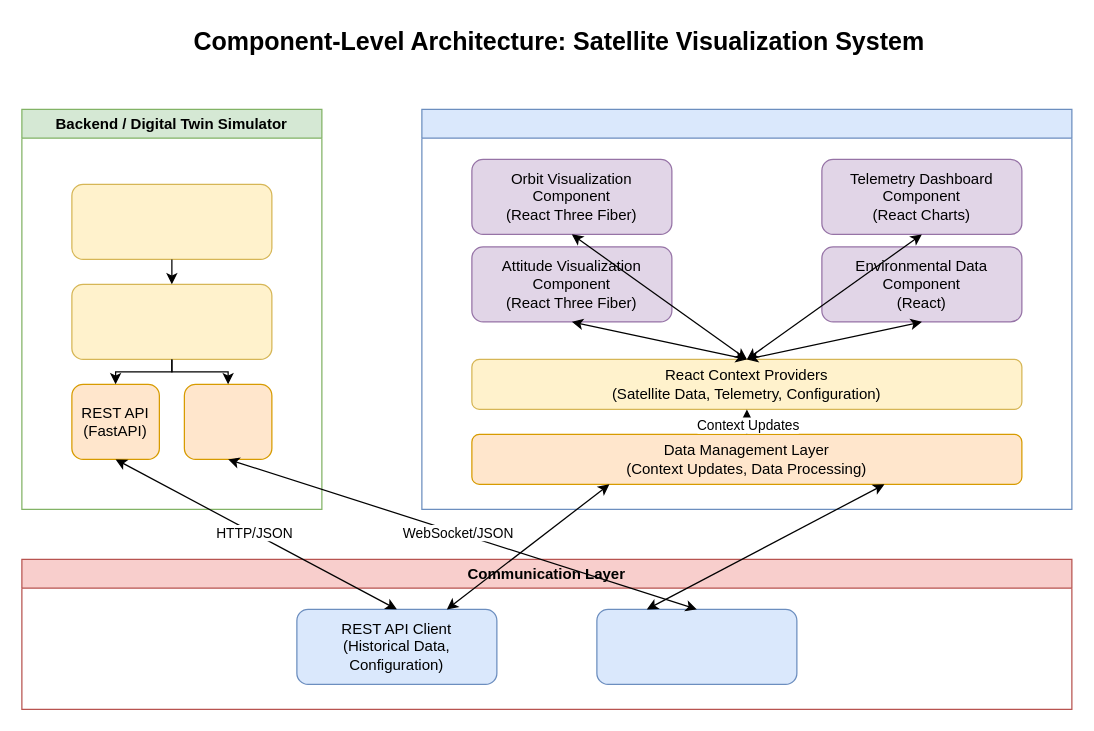
Image size: 1094x731. Some labels were removed from this diagram. Each missing label, with the box of its shape:
Frontend (React): (421, 108, 1072, 509)
GODOT Orbital Simulator: (71, 183, 272, 259)
Telemetry Data Generator: (71, 283, 272, 359)
WebSocket Client (Real-time Updates): (596, 608, 797, 684)
WebSocket Server: (183, 383, 272, 459)
